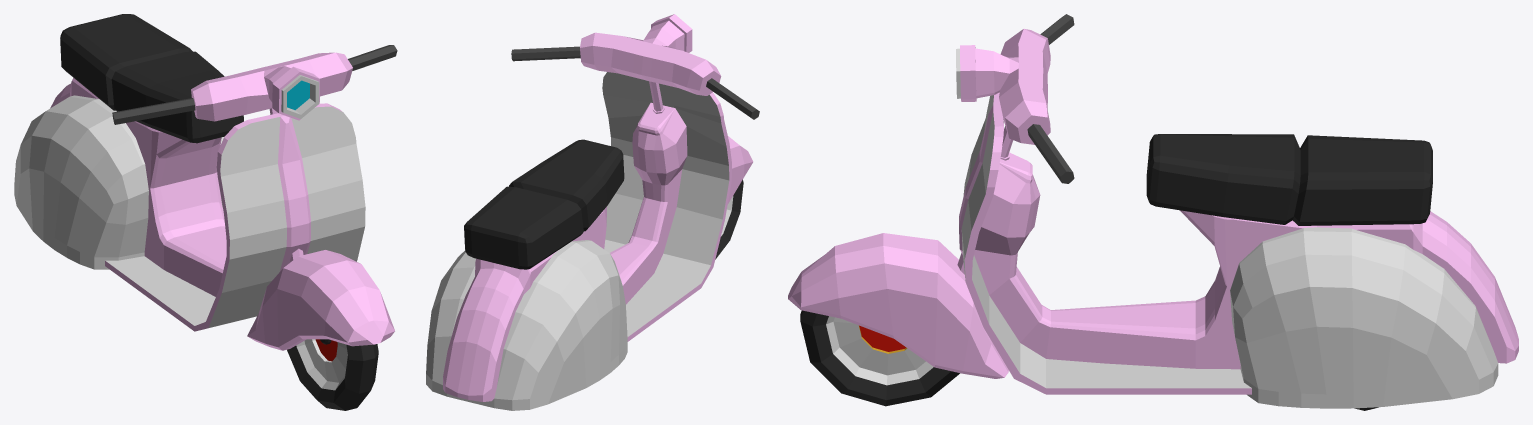
The model's file is Scooter.fbx.
The picture shows the model from 3 angles, left to right: view 1: azimuth 30°, elevation 25°; view 2: azimuth 150°, elevation 25°; view 3: azimuth 270°, elevation 25°; orthographic projection. The views are drawn at different scales.
Visible parts, largest first — view 1: Scooter_body, Scooter_Handlebars, Scooter_BackWheel.001; view 2: Scooter_body, Scooter_Handlebars, Scooter_BackWheel.001; view 3: Scooter_body, Scooter_Handlebars, Scooter_BackWheel.001.
Boxes of the visible parts, x1,y1,x2,y2 form: Scooter_body: [14, 14, 365, 331]; Scooter_Handlebars: [112, 45, 397, 350]; Scooter_BackWheel.001: [287, 339, 378, 410]; Scooter_body: [426, 72, 731, 410]; Scooter_Handlebars: [511, 14, 759, 204]; Scooter_BackWheel.001: [715, 179, 743, 259]; Scooter_body: [959, 92, 1518, 408]; Scooter_Handlebars: [788, 14, 1074, 378]; Scooter_BackWheel.001: [800, 310, 959, 406].
Size of the model in its own units: 0.953 by 1 by 1.85.
